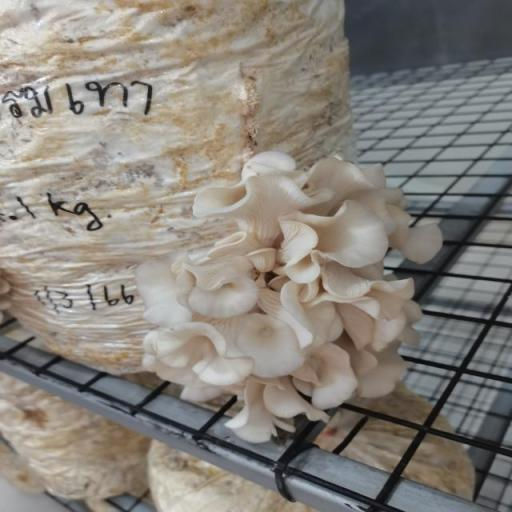White Oyster Mushroom: (130, 141, 459, 449)
